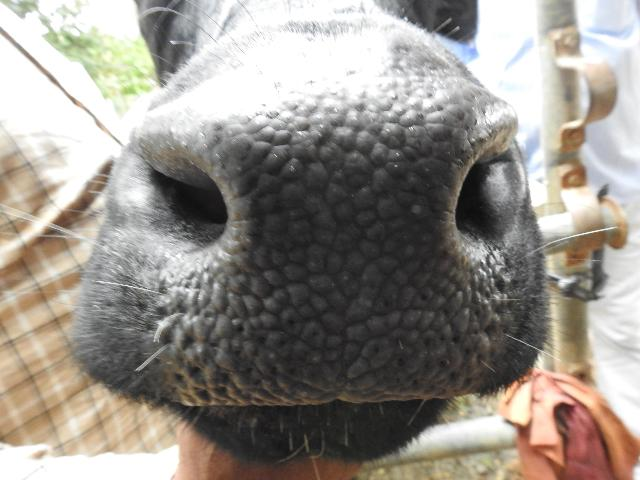Muzzle: (174, 97, 482, 393)
